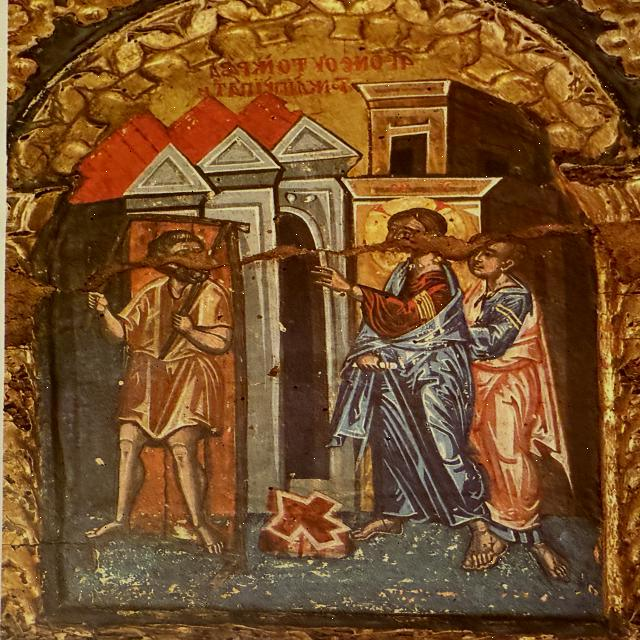aura: (365, 197, 471, 272)
christ: (347, 191, 474, 553)
scroll: (350, 354, 401, 376)
